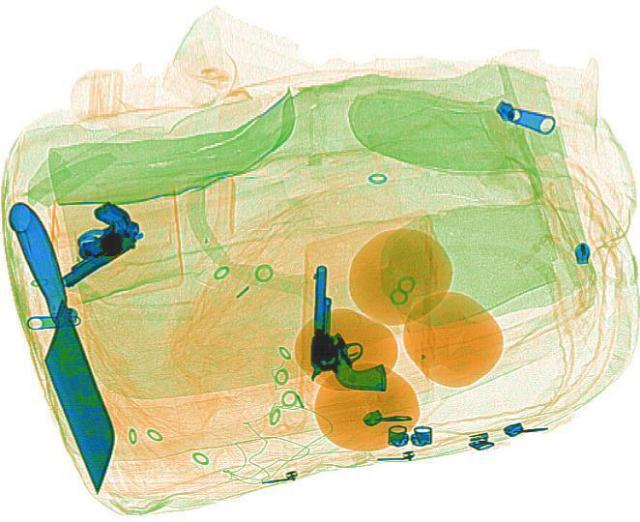Gun: (23, 196, 153, 288), (310, 263, 388, 389)
Knife: (0, 195, 135, 494)
